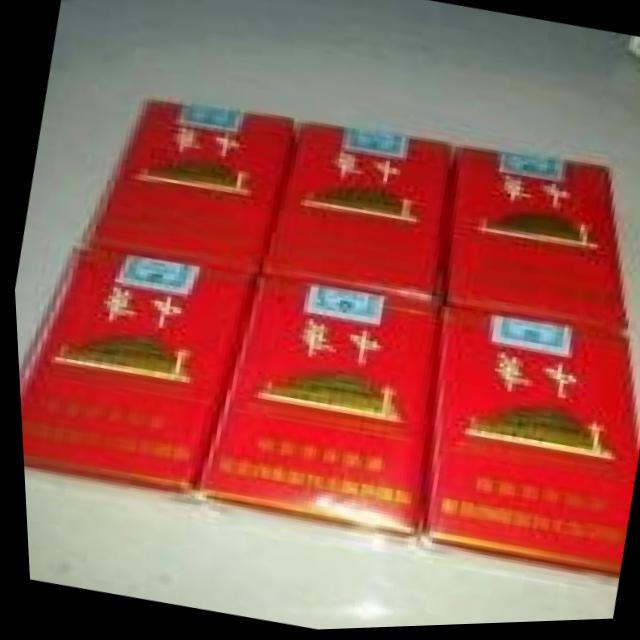box: (189, 274, 439, 551), (15, 240, 258, 497), (425, 303, 637, 583), (79, 97, 305, 274), (439, 147, 626, 337), (258, 122, 454, 303)
